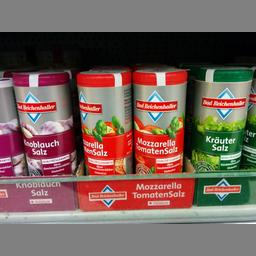spices: (12, 68, 76, 174), (190, 65, 252, 170), (76, 68, 132, 174), (132, 66, 186, 174)
